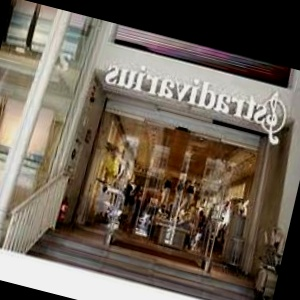stradivarius: (215, 63, 300, 113)
